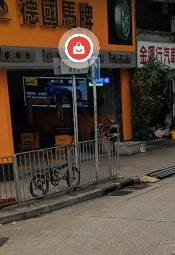One Way Traffic: (86, 55, 101, 81)
